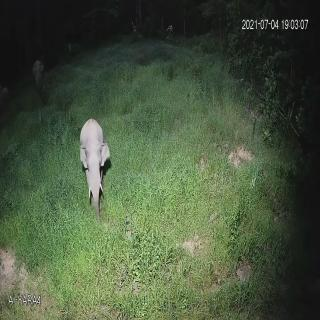Elephant: (78, 111, 114, 228)
